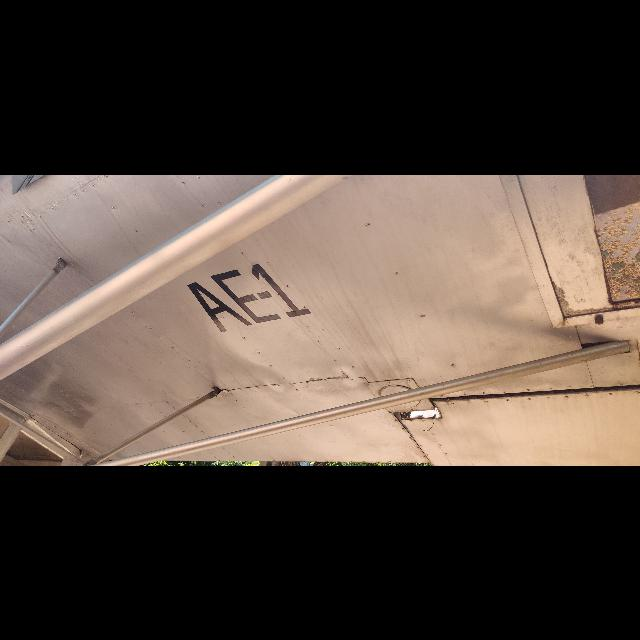dent: (222, 352, 292, 398)
